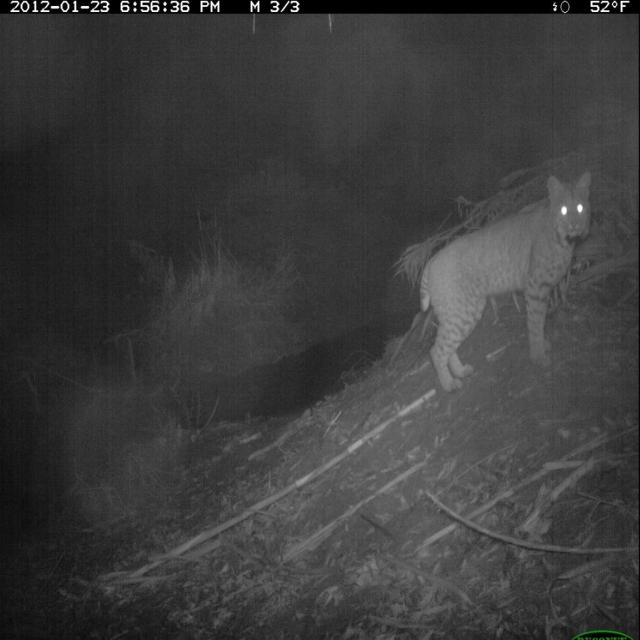bobcat: (414, 166, 598, 394)
